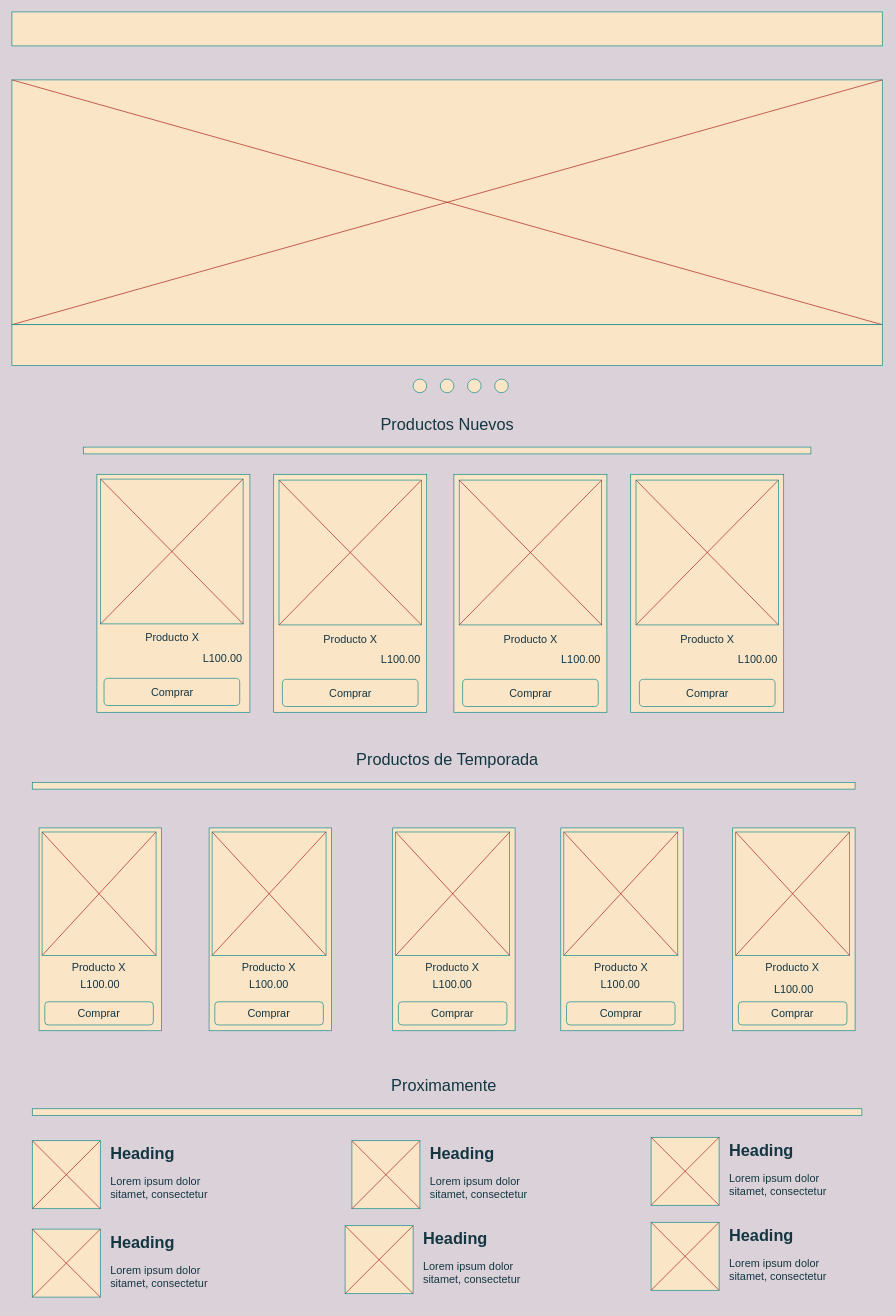
Image size: 895x1316. Some labels were removed from this diagram. The centre of each missing label's shape, as x and y in pixels:
"Ecommerce Site" goes at point (446, 28).
"Slide Title" goes at point (446, 345).
